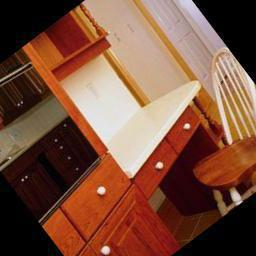Armario: (32, 155, 177, 256)
Electrodomestico: (0, 49, 119, 226)
